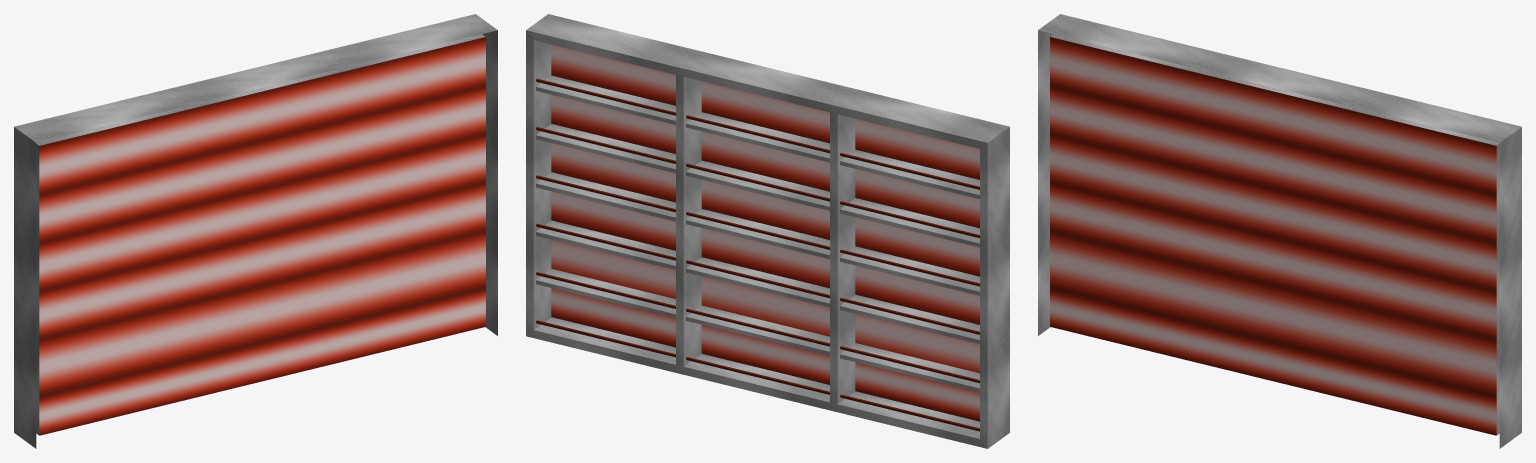
File: brushed_metal_bevcase.fbx
3 renders of one model, left to right at view 1: azimuth 30°, elevation 25°; view 2: azimuth 150°, elevation 25°; view 3: azimuth 330°, elevation 25°, orthographic.
Parts seen in each view (by area): view 1: mesh_0; view 2: mesh_0; view 3: mesh_0.
Part boxes in pixels (bbox=[...]): mesh_0: bbox=[14, 14, 497, 448]; mesh_0: bbox=[526, 14, 1009, 448]; mesh_0: bbox=[1038, 14, 1521, 448].
Size of the model in its own units: 600 by 380 by 50.
1 material, 1 textured.
